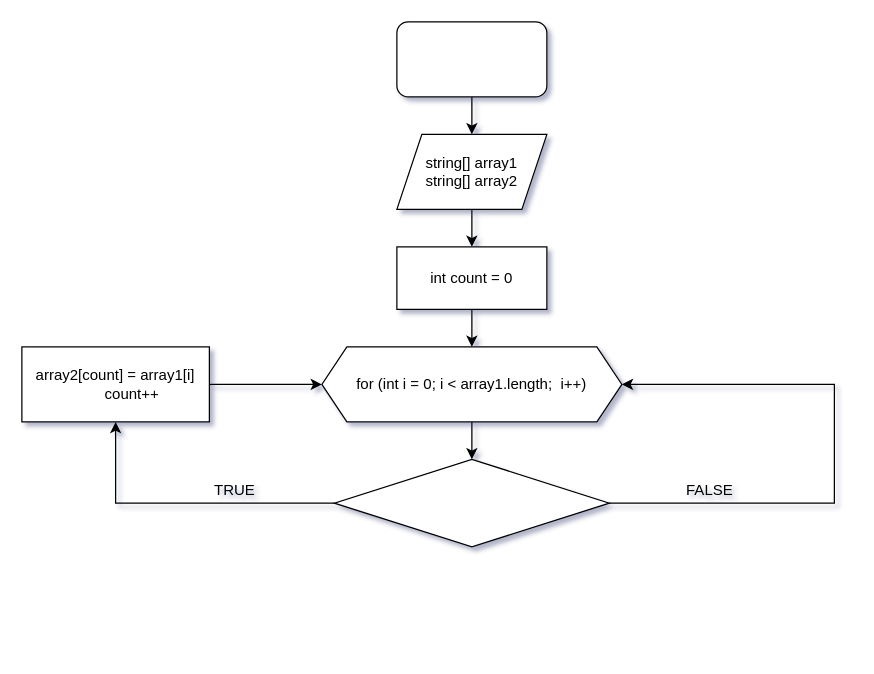
Image size: 874x674. Some labels were removed from this diagram. The shapes that lost their labels are listed below. From the top down, each one's centre as x and y in pixels, then its label:
the point at 471,59: Start
the point at 471,502: if(array1[i].Length <= 3)
